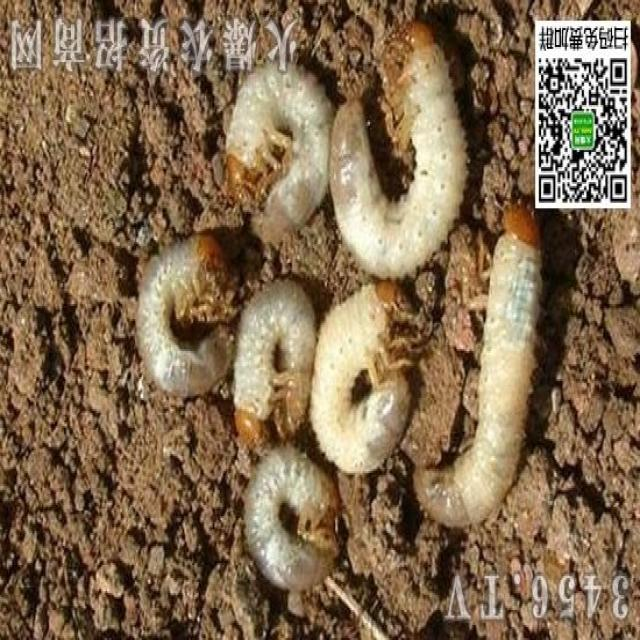grub: (415, 200, 546, 545), (324, 17, 472, 270), (308, 284, 411, 488), (126, 229, 241, 404), (225, 66, 339, 237), (234, 450, 345, 596), (231, 278, 323, 445)
